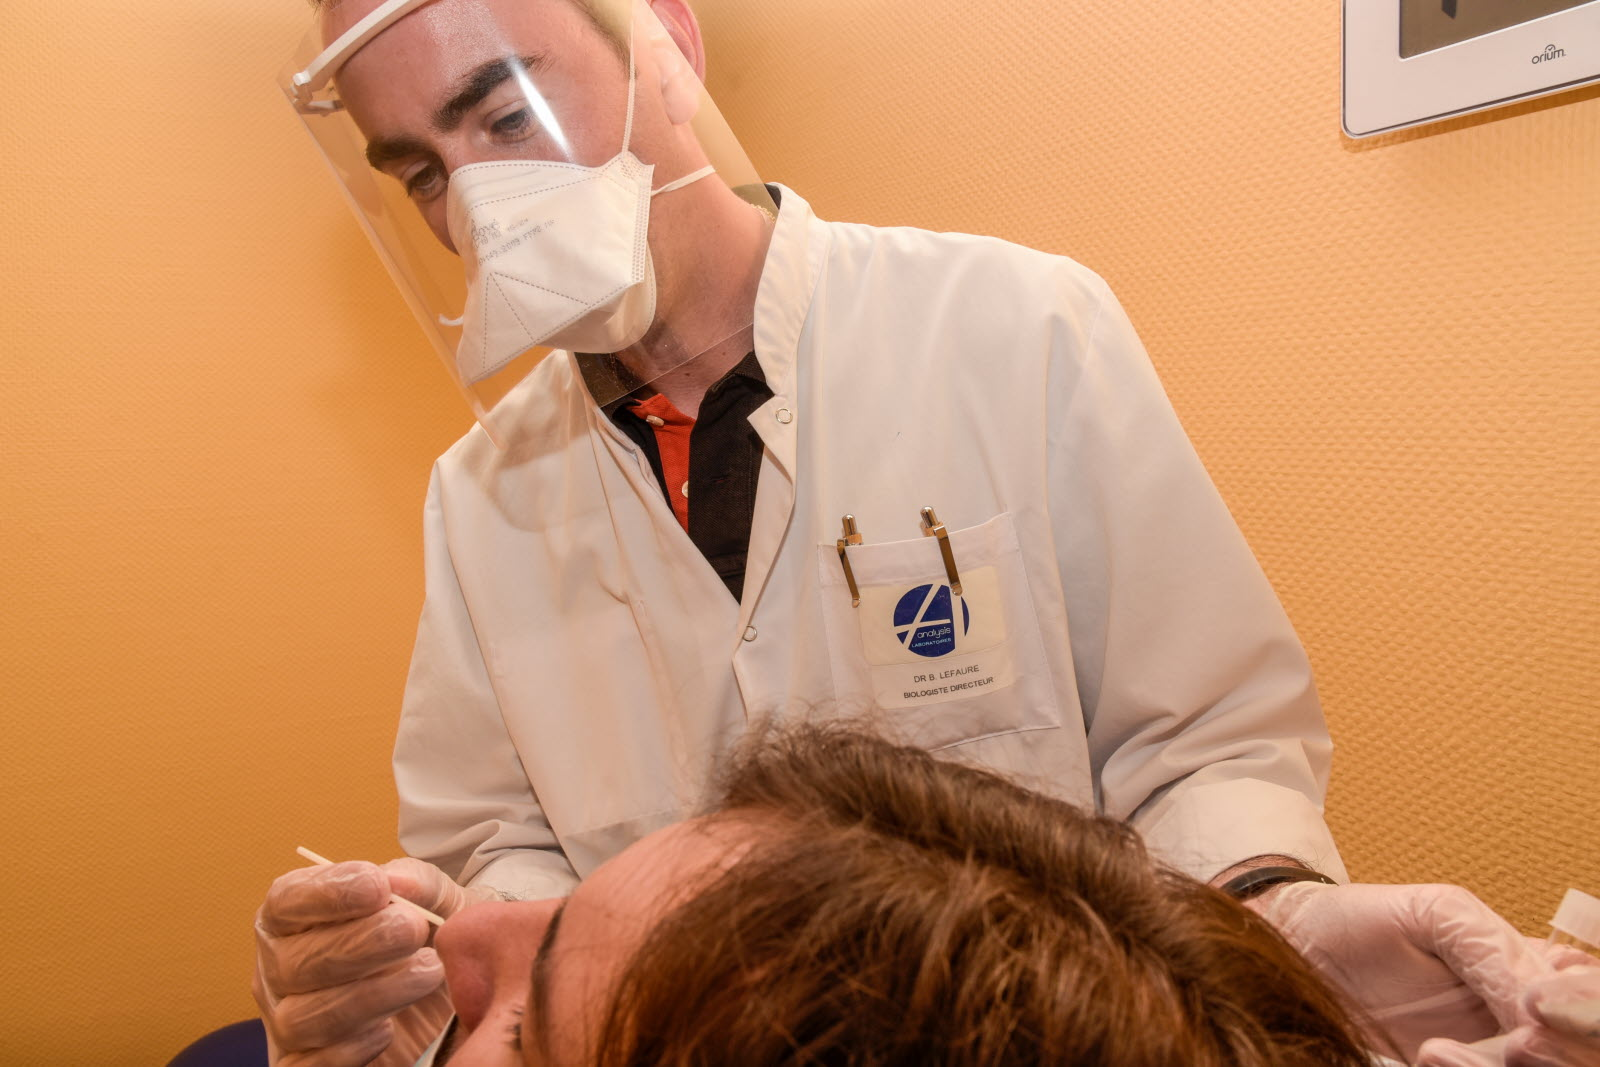with_mask: (380, 67, 700, 239)
